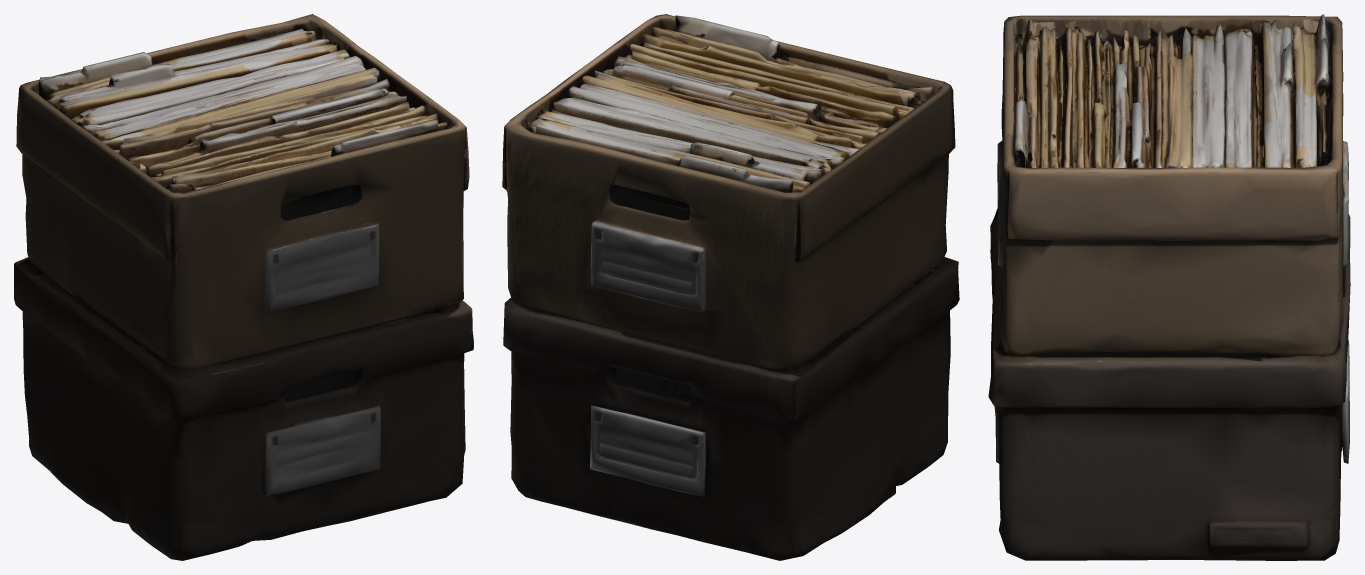
File: belgekutusubake.fbx
3 renders of one model, left to right at view 1: azimuth 30°, elevation 25°; view 2: azimuth 150°, elevation 25°; view 3: azimuth 270°, elevation 25°, orthographic. The views are drawn at different scales.
Visible parts, largest first — view 1: belgekutusu_low; view 2: belgekutusu_low; view 3: belgekutusu_low.
Boxes of the visible parts, box(x1,y1,x2,y2) form: belgekutusu_low: box(14, 14, 473, 560); belgekutusu_low: box(502, 14, 959, 560); belgekutusu_low: box(988, 14, 1350, 560).
Bounding box in the file's own units: 1.61 × 1.92 × 1.54.
